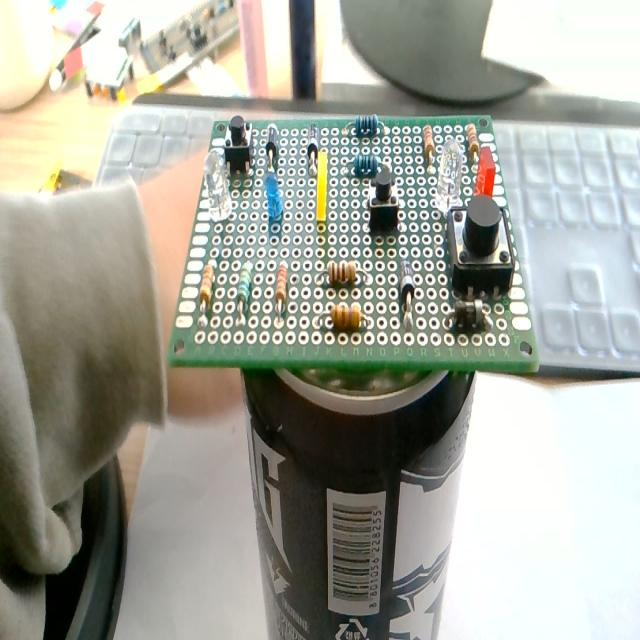diode: (439, 298, 500, 340), (396, 257, 420, 329), (304, 121, 318, 183), (266, 121, 282, 171)
led: (431, 134, 467, 220), (204, 153, 234, 230), (310, 148, 332, 245), (260, 183, 287, 228)
resistor: (321, 246, 366, 286), (192, 260, 221, 320), (235, 255, 258, 325), (271, 256, 293, 329), (324, 307, 376, 337), (462, 116, 482, 172), (342, 115, 390, 138), (417, 118, 437, 172), (346, 153, 392, 172), (202, 258, 202, 262)
switch: (441, 185, 517, 298), (367, 169, 403, 235), (229, 116, 255, 158)
